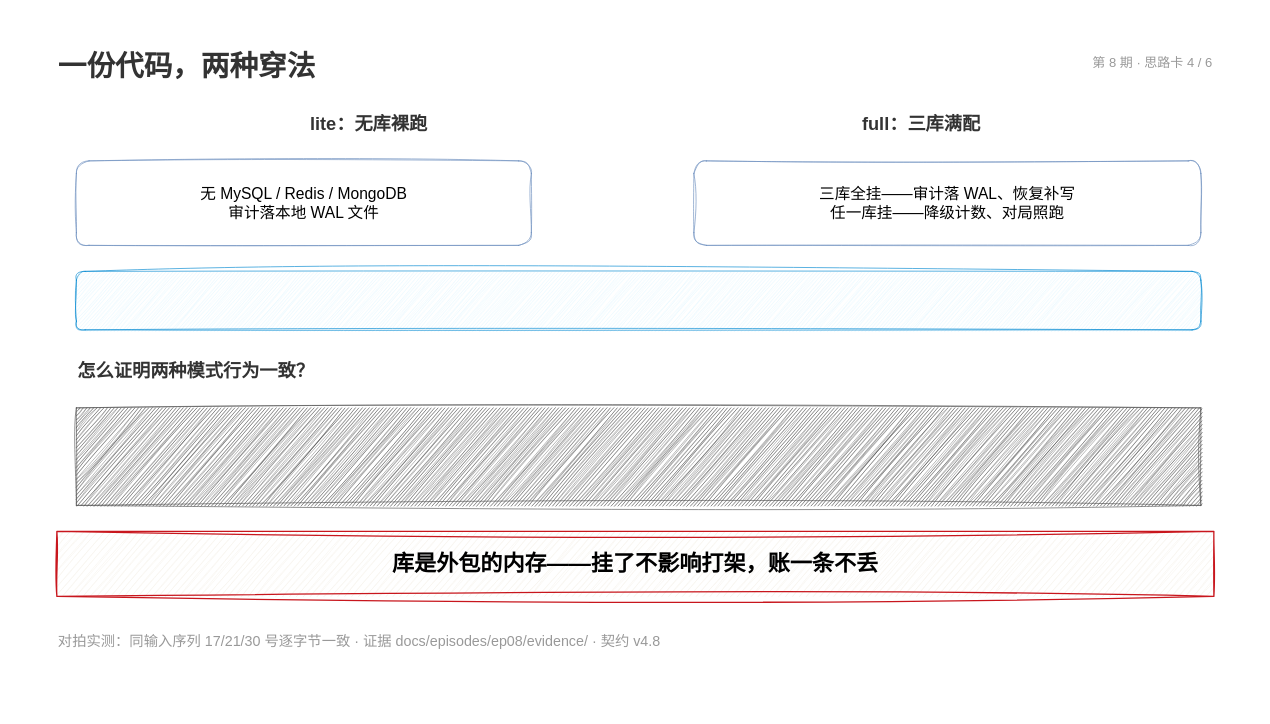
This 1270x724 diagram has some shape labels left out. Here are the shapes that lost their labels. From the top down, the box of each, then its label:
(76, 271, 1201, 330): 同一份业务代码 同一套协议 同一条命中判定链
(76, 407, 1201, 505): $ wire_ab_test.sh ══ diff（空 = 对拍通过）══ IDENTICAL ✓
